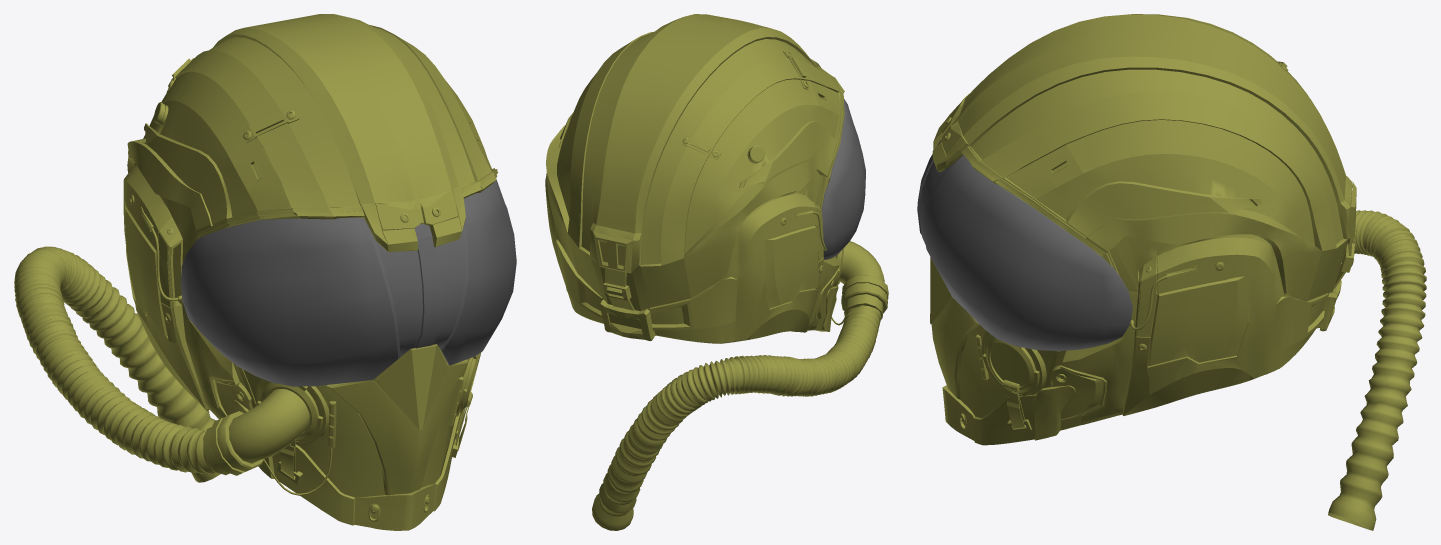
Rendered from SM_Compo vs SKF_07.fbx.
The picture shows the model from 3 angles, left to right: view 1: azimuth 30°, elevation 25°; view 2: azimuth 150°, elevation 25°; view 3: azimuth 270°, elevation 25°; orthographic projection. The views are drawn at different scales.
Parts seen in each view (by area): view 1: Object021; view 2: Object021; view 3: Object021.
Boxes of the visible parts, <box> form: Object021: <box>14,14,516,530</box>; Object021: <box>545,14,888,530</box>; Object021: <box>917,14,1426,530</box>.
Size of the model in its own units: 23.53 by 32.43 by 29.84.
